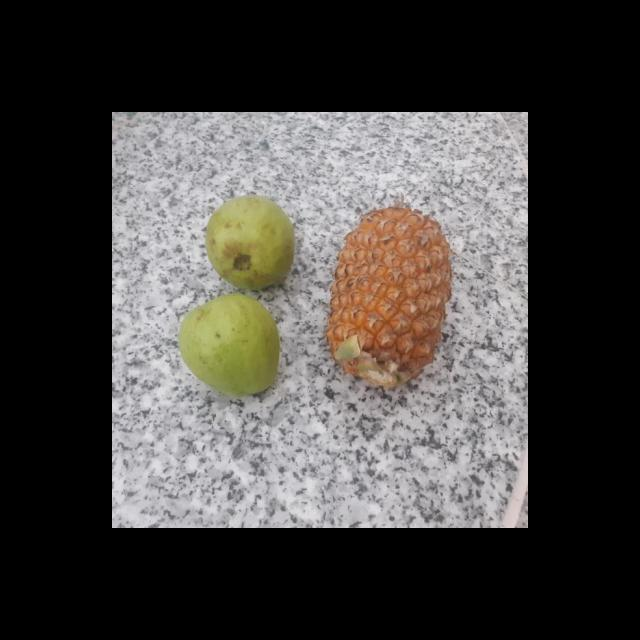guava: (174, 296, 280, 396), (202, 197, 296, 288)
pineapple: (325, 208, 450, 384)
